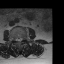CCS_normal: (18, 36, 20, 44)
LFS_normal: (22, 35, 24, 42)
LLS_normal: (20, 35, 22, 43)
RFS_normal: (13, 36, 15, 42)
RLS_normal: (16, 36, 18, 44)
